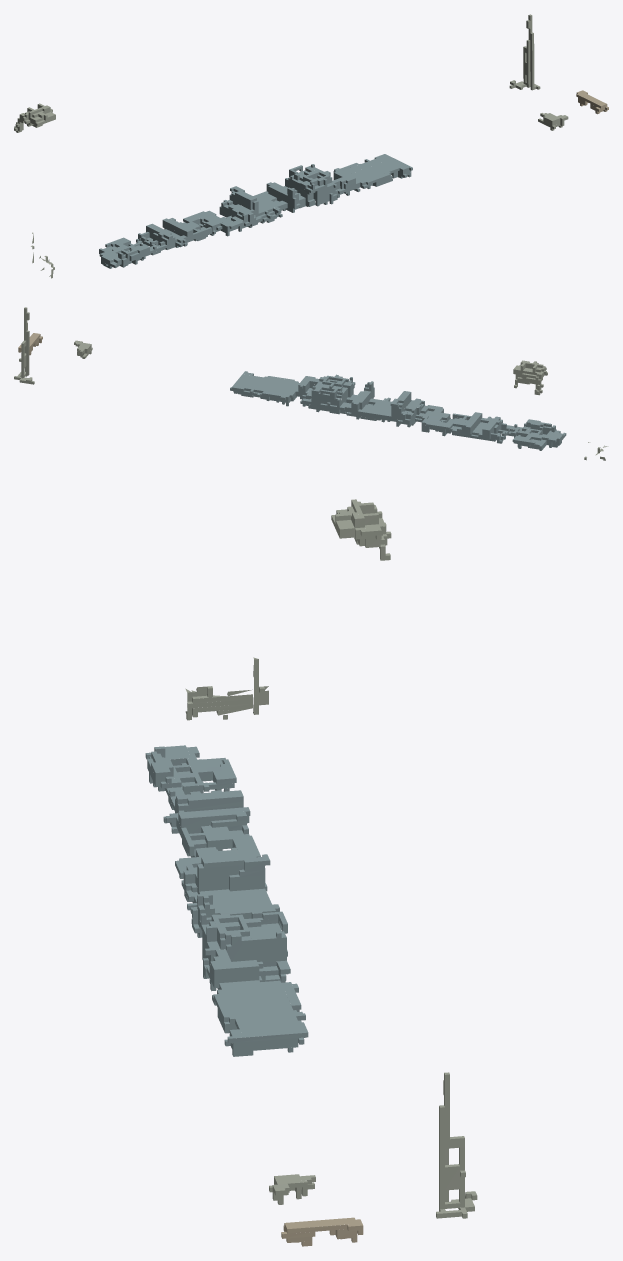
3 views of the same model, one above another, from view 1: azimuth 30°, elevation 25°; view 2: azimuth 150°, elevation 25°; view 3: azimuth 270°, elevation 25° (orthographic). The views are drawn at different scales.
Visible parts, largest first — view 1: measured-industrial; view 2: measured-industrial; view 3: measured-industrial.
Boxes of the visible parts, bbox=[...] form: measured-industrial: bbox=[14, 14, 608, 278]; measured-industrial: bbox=[14, 307, 608, 460]; measured-industrial: bbox=[145, 499, 477, 1246].
Bounding box in the file's own units: 250 × 52.08 × 65.12.
